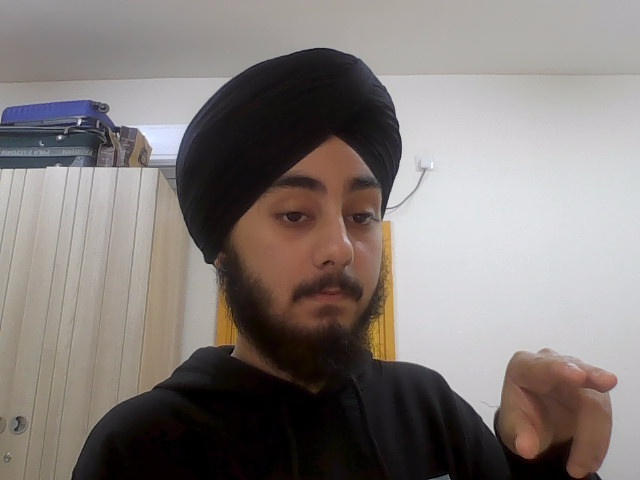No: (493, 340, 627, 480)
